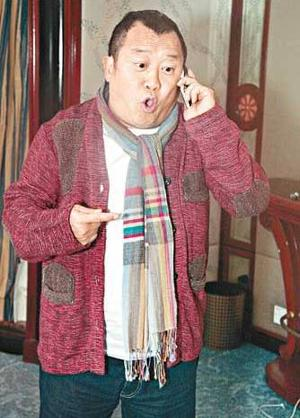person: (3, 11, 270, 418)
